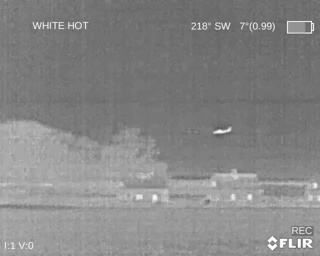AIRPLANE: (211, 125, 232, 135)
